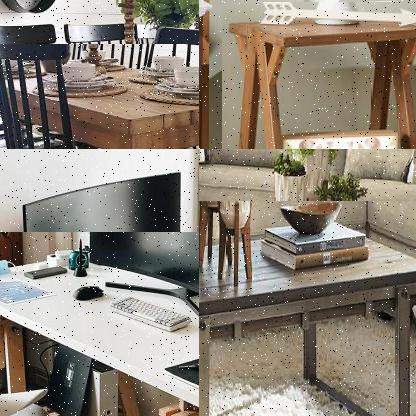table: (199, 200, 415, 415), (0, 232, 198, 415), (222, 2, 415, 148), (0, 44, 198, 148)
